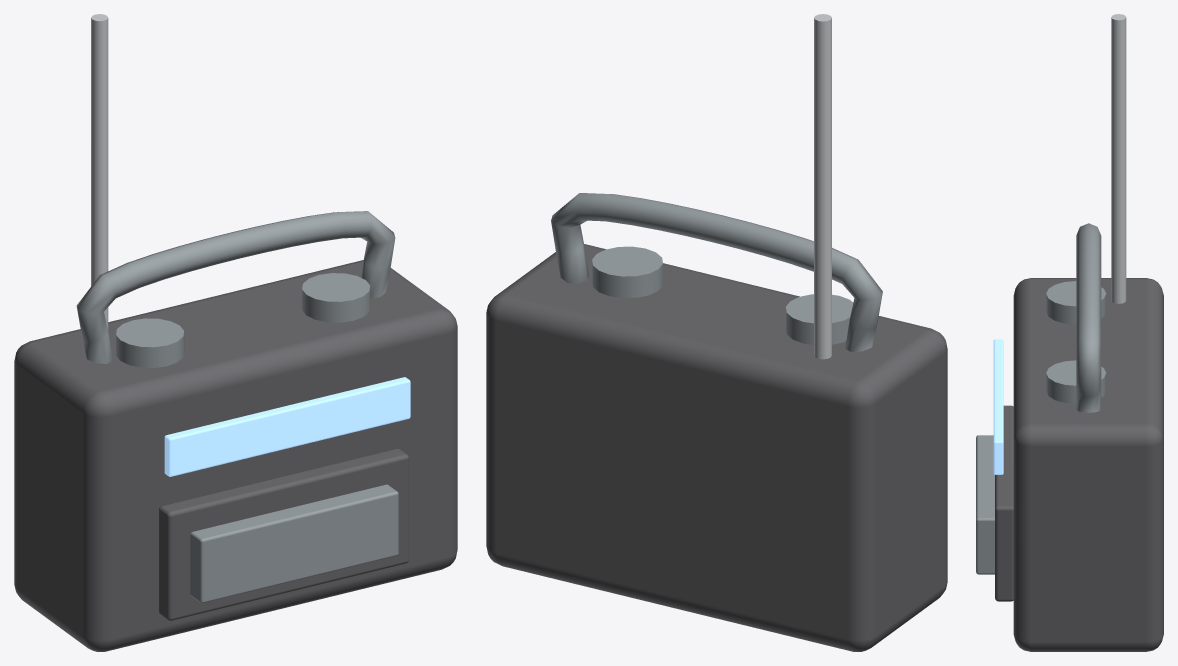
File: prison-complex-builder-inmate-tabletop-radio-cfb25c65__25700.glb
3 views of the same model, side by side, from view 1: azimuth 30°, elevation 25°; view 2: azimuth 150°, elevation 25°; view 3: azimuth 270°, elevation 25° (orthographic). The views are drawn at different scales.
Visible parts, largest first — view 1: inmate-tabletop-radio; view 2: inmate-tabletop-radio; view 3: inmate-tabletop-radio.
Part boxes in pixels (x1,y1,x2,y2): inmate-tabletop-radio: (14, 14, 457, 651); inmate-tabletop-radio: (486, 14, 947, 651); inmate-tabletop-radio: (976, 14, 1163, 651).
Size of the model in its own units: 0.3 by 0.45 by 0.15.
